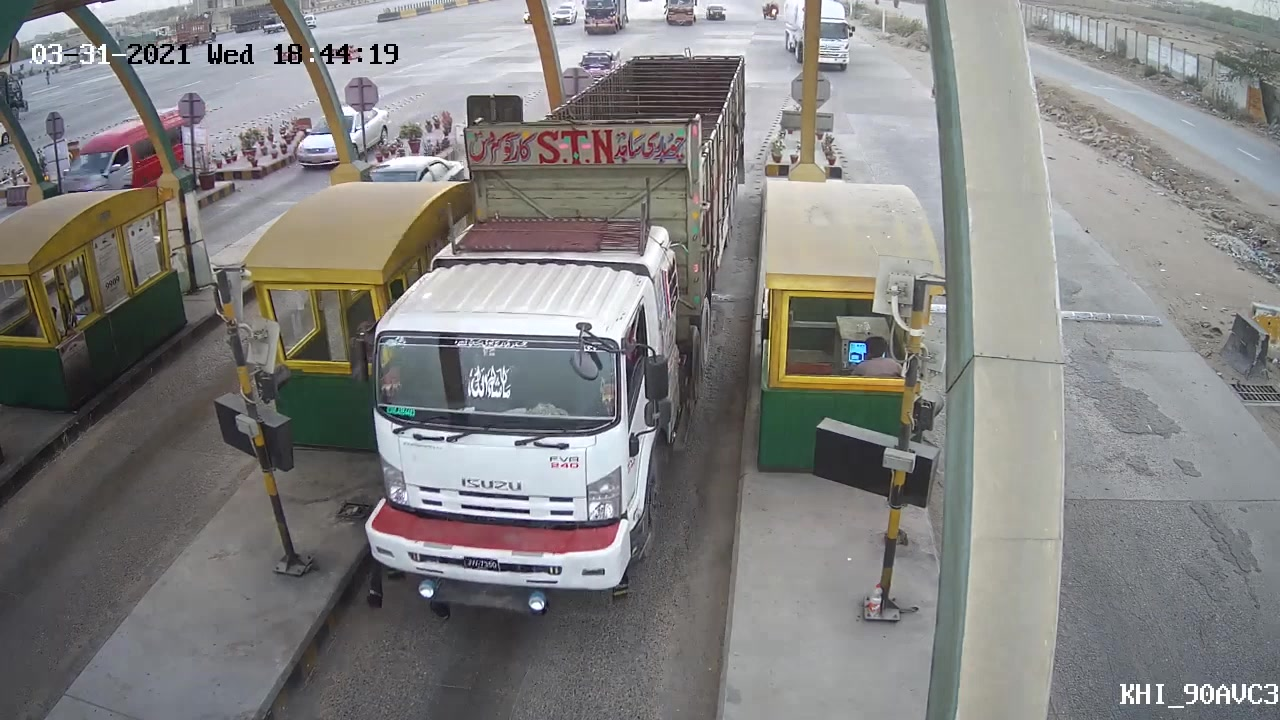F5: (353, 48, 758, 614)
